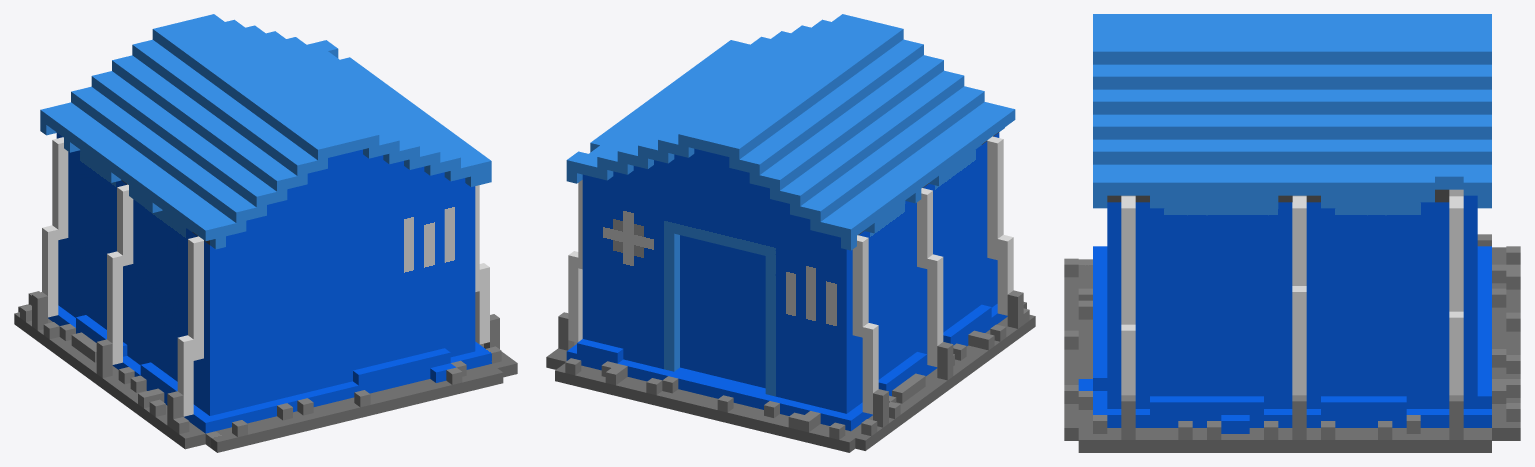
The model's file is obj_house7a.fbx.
3 renders of one model, left to right at view 1: azimuth 30°, elevation 25°; view 2: azimuth 150°, elevation 25°; view 3: azimuth 270°, elevation 25°, orthographic. The views are drawn at different scales.
Visible parts, largest first — view 1: obj_house7a; view 2: obj_house7a; view 3: obj_house7a.
Part boxes in pixels (x1,y1,x2,y2): obj_house7a: (14,14,517,452); obj_house7a: (546,14,1035,452); obj_house7a: (1064,14,1520,452).
Bounding box in the file's own units: 3.2 × 3.2 × 2.5.
Materials: 1 (1 with a texture image).
